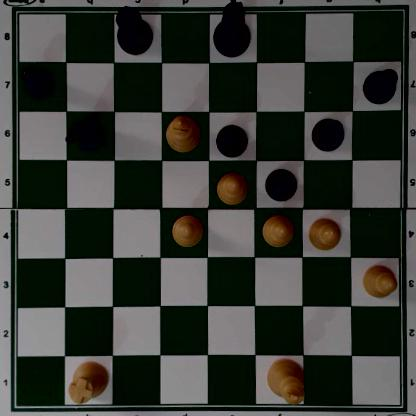black-king: (212, 1, 252, 59)
black-knight: (66, 112, 109, 152)
black-pawn: (362, 67, 398, 104), (20, 64, 55, 99), (215, 123, 249, 157), (311, 116, 344, 151), (265, 166, 297, 201)
black-rook: (114, 5, 156, 53)
white-bishop: (166, 113, 200, 151)
white-king: (266, 358, 306, 406)
white-pawn: (308, 215, 342, 251), (361, 264, 398, 297), (213, 171, 249, 204), (261, 212, 294, 247), (170, 215, 203, 247)
white-rook: (69, 360, 110, 403)
